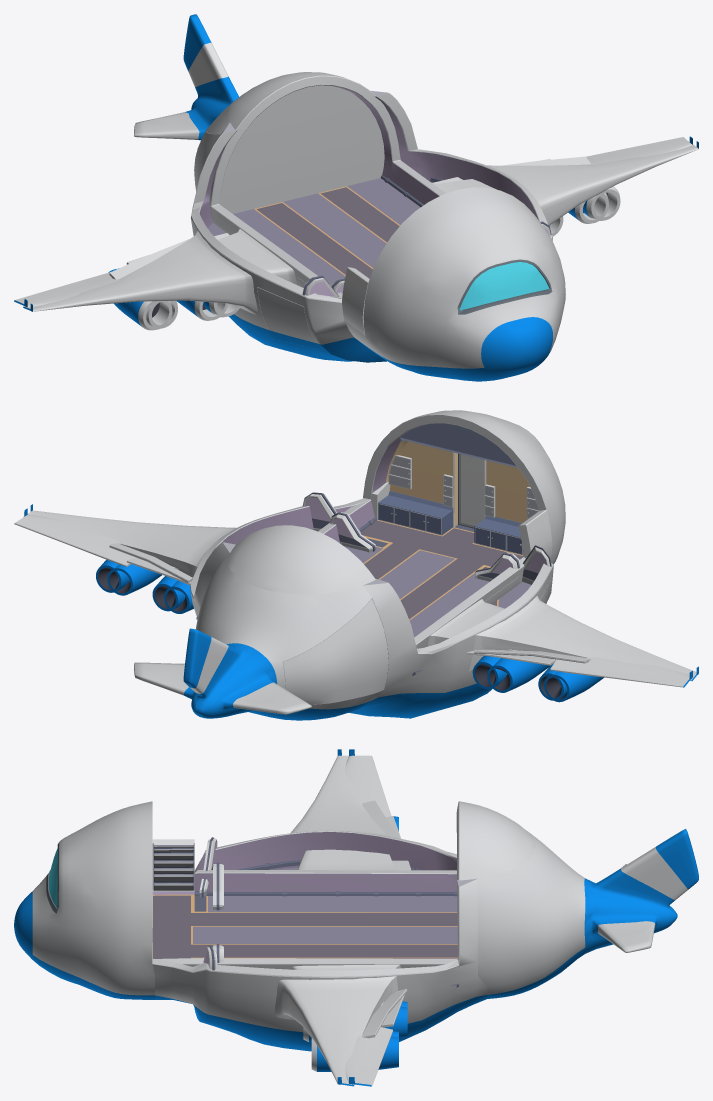
Rendered from Airplane_2_blendshape.FBX.
3 renders of one model, top to bottom at view 1: azimuth 30°, elevation 25°; view 2: azimuth 150°, elevation 25°; view 3: azimuth 270°, elevation 25°, orthographic.
Visible parts, largest first — view 1: Airplane_2, Airplane_2_BS, Airplane_Wing_R_BS, Airplane_Wing_L_BS, Airplane_2_BackUp, Airplane_Wing_R, Airplane_Wing_L, Airplane_2_FrontBagsDoor_BS, Airplane_2_Door, Airplane_2_BagsDoor; view 2: Airplane_2, Airplane_2_BS, Airplane_Wing_R_BS, Airplane_2_BackUp, Airplane_2_BagsDoor, Airplane_Wing_L_BS, Airplane_Wing_R, Airplane_Wing_L, Airplane_2_Door; view 3: Airplane_2, Airplane_2_BS, Airplane_Wing_L_BS, Airplane_2_BackUp, Airplane_Wing_R_BS, Airplane_Wing_R, Airplane_Wing_L, Airplane_2_Door.
Boxes of the visible parts, left/top/right/bottom form: Airplane_2: left=134, top=14, right=565, bottom=381; Airplane_2_BS: left=191, top=90, right=552, bottom=362; Airplane_Wing_R_BS: left=23, top=231, right=258, bottom=330; Airplane_Wing_L_BS: left=487, top=141, right=698, bottom=236; Airplane_2_BackUp: left=228, top=72, right=375, bottom=130; Airplane_Wing_R: left=14, top=229, right=297, bottom=328; Airplane_Wing_L: left=432, top=136, right=692, bottom=228; Airplane_2_FrontBagsDoor_BS: left=257, top=287, right=323, bottom=350; Airplane_2_Door: left=342, top=267, right=369, bottom=334; Airplane_2_BagsDoor: left=194, top=131, right=219, bottom=191; Airplane_2: left=134, top=410, right=565, bottom=720; Airplane_2_BS: left=190, top=492, right=553, bottom=718; Airplane_Wing_R_BS: left=469, top=596, right=698, bottom=702; Airplane_2_BackUp: left=228, top=525, right=375, bottom=594; Airplane_2_BagsDoor: left=282, top=598, right=388, bottom=704; Airplane_Wing_L_BS: left=23, top=504, right=235, bottom=611; Airplane_Wing_R: left=427, top=599, right=692, bottom=700; Airplane_Wing_L: left=14, top=508, right=193, bottom=613; Airplane_2_Door: left=518, top=509, right=552, bottom=559; Airplane_2: left=14, top=801, right=698, bottom=999; Airplane_2_BS: left=153, top=831, right=487, bottom=1051; Airplane_Wing_L_BS: left=275, top=976, right=407, bottom=1086; Airplane_2_BackUp: left=456, top=801, right=535, bottom=880; Airplane_Wing_R_BS: left=290, top=749, right=399, bottom=838; Airplane_Wing_R: left=297, top=749, right=410, bottom=870; Airplane_Wing_L: left=291, top=964, right=407, bottom=1086; Airplane_2_Door: left=152, top=839, right=194, bottom=890.
Bounding box in the file's own units: 1544 × 466 × 1354.
Materials: 1 (1 with a texture image).
